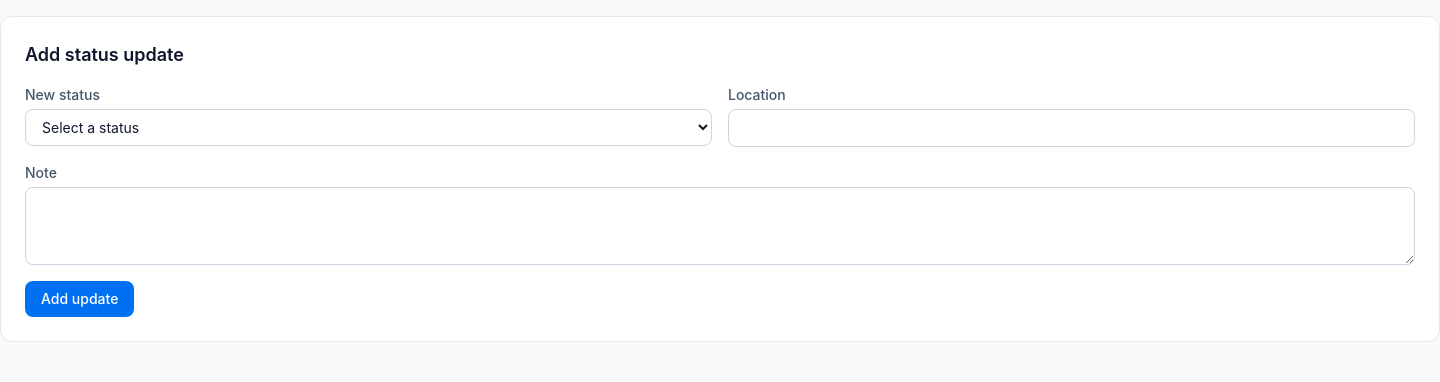
it: StatusUpdateForm › requires a status and sends nothing without one
Step 1. Click the button "Add update" → point(80, 299), box [25,281,134,317]
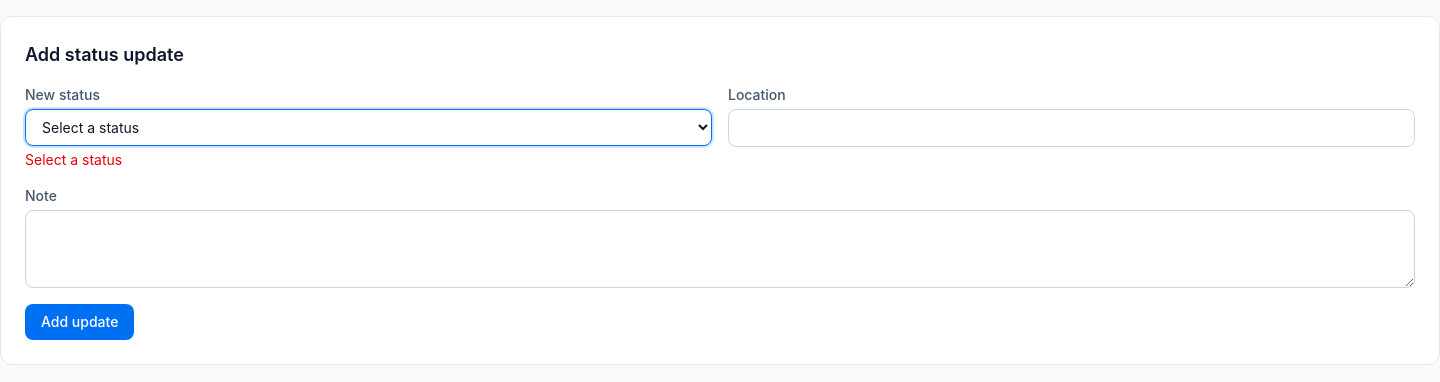
expect the message reads "Select a status": met, box [25,151,122,168]
